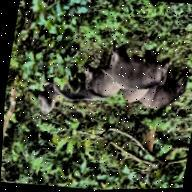boar: (96, 38, 174, 96), (137, 64, 190, 114)
